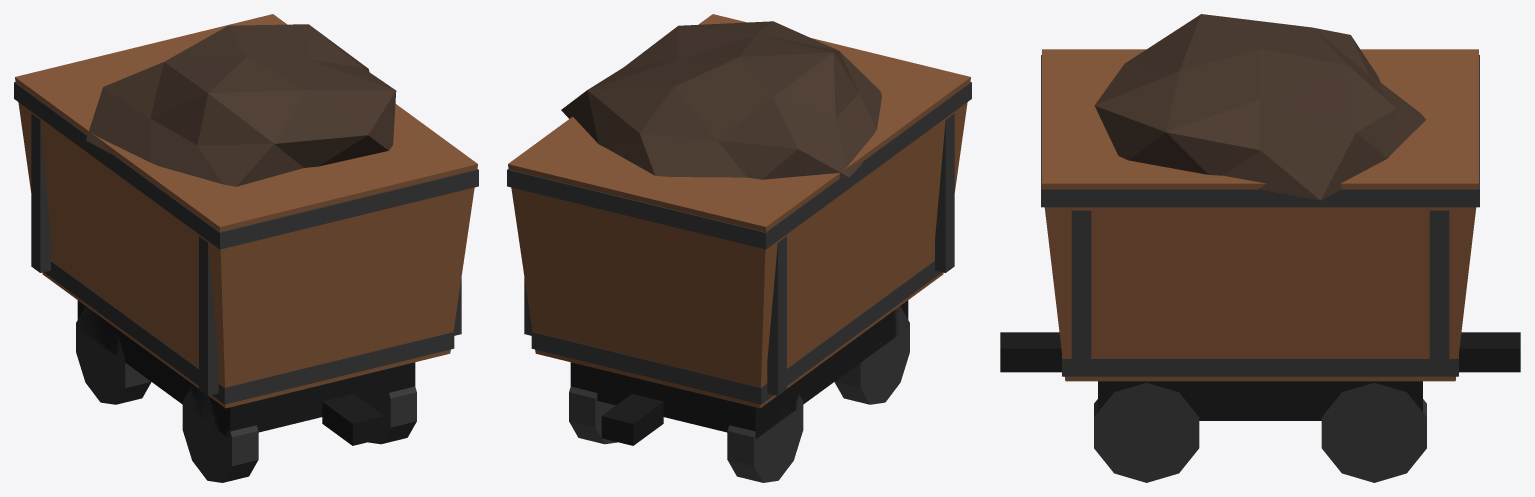
Rendered from Mining_Minecart.fbx.
The picture shows the model from 3 angles, left to right: view 1: azimuth 30°, elevation 25°; view 2: azimuth 150°, elevation 25°; view 3: azimuth 270°, elevation 25°; orthographic projection. The views are drawn at different scales.
Parts seen in each view (by area): view 1: Mining_Minecart; view 2: Mining_Minecart; view 3: Mining_Minecart.
Part boxes in pixels (x1=…): Mining_Minecart: x1=14, y1=14, x2=478, y2=482; Mining_Minecart: x1=507, y1=14, x2=971, y2=482; Mining_Minecart: x1=1000, y1=14, x2=1520, y2=482.
Size of the model in its own units: 1.08 by 1.31 by 1.6.
